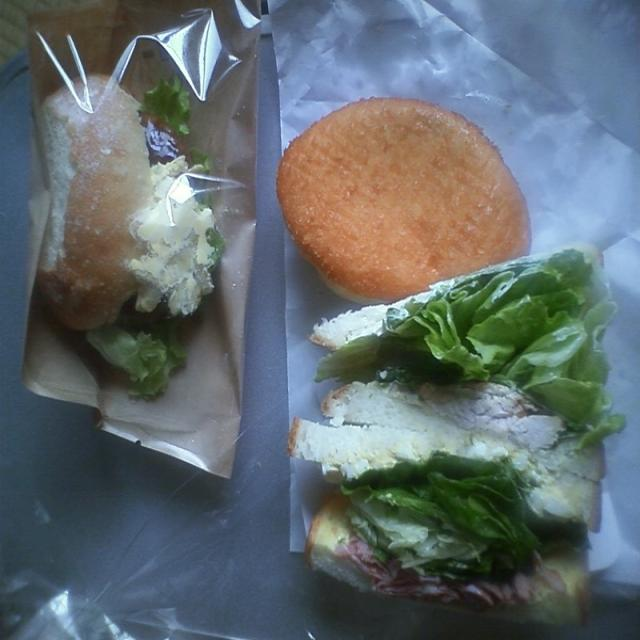三明治: (294, 252, 632, 629), (26, 51, 252, 387), (270, 81, 541, 304)
